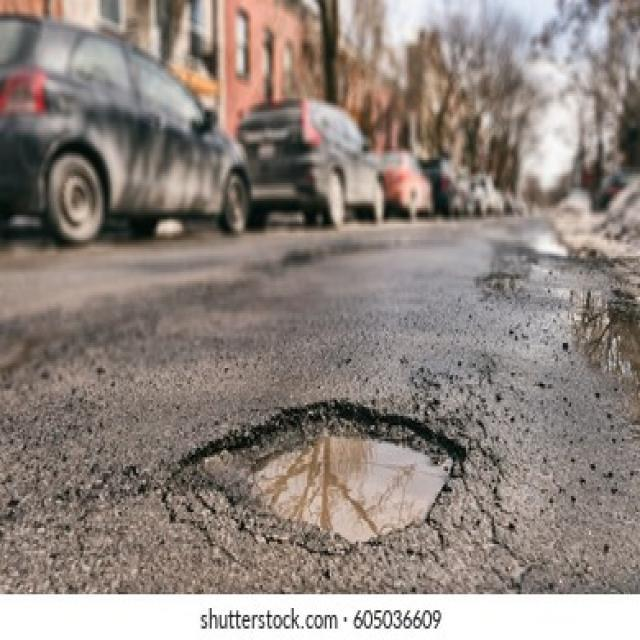Pothole: (179, 388, 468, 556)
